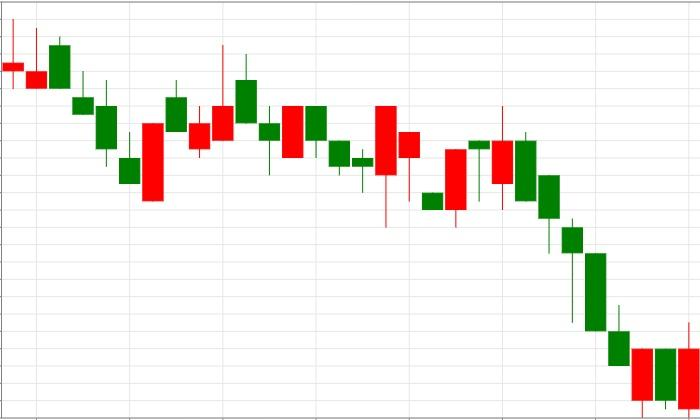bullish_engulfing_rise: (515, 131, 700, 418), (48, 36, 163, 202)
